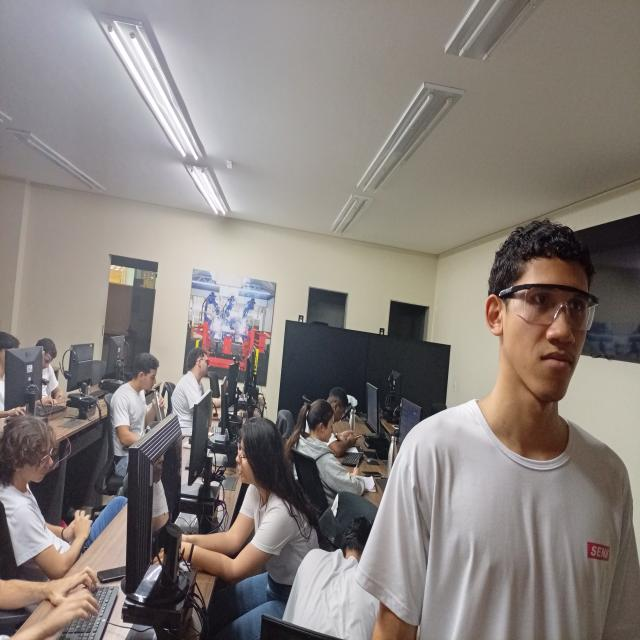oculos-epi: (499, 284, 598, 330)
sem_oculos: (25, 440, 54, 466), (231, 433, 252, 462), (144, 372, 158, 385), (200, 357, 212, 369), (326, 420, 332, 432), (340, 405, 344, 421)
